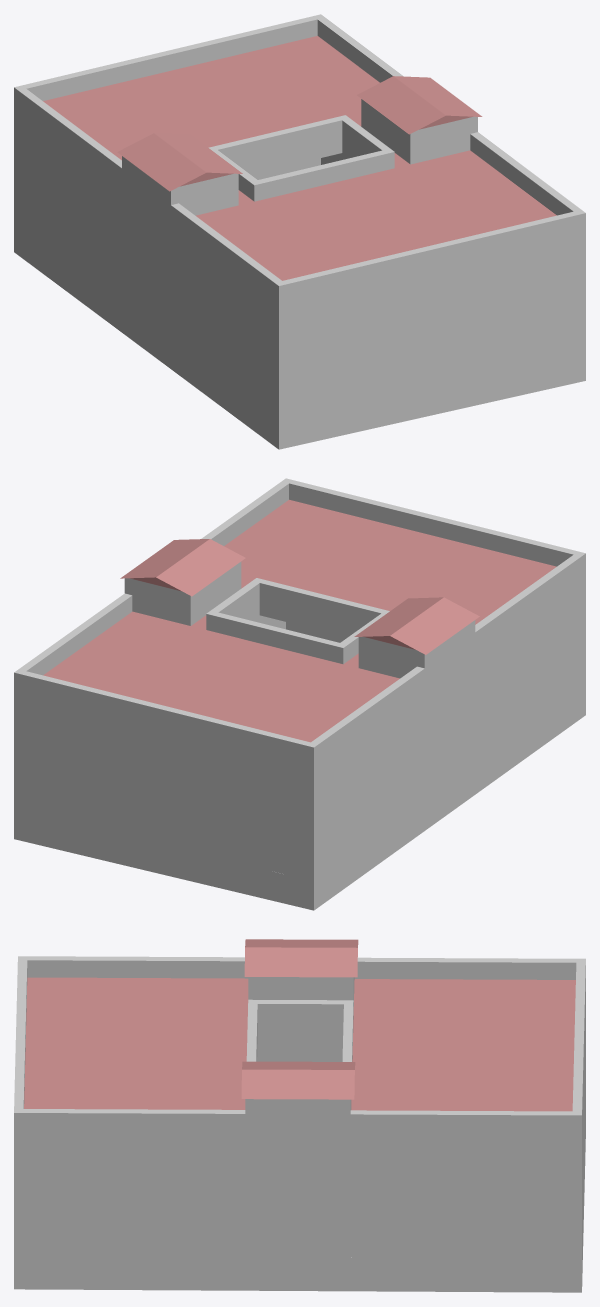
Rendered from LOD_Block_2_22.glb.
3 views of the same model, one above another, from view 1: azimuth 30°, elevation 25°; view 2: azimuth 150°, elevation 25°; view 3: azimuth 270°, elevation 25° (orthographic). The views are drawn at different scales.
Visible parts, largest first — view 1: mesh_CityEngineMaterial_307; view 2: mesh_CityEngineMaterial_307; view 3: mesh_CityEngineMaterial_307.
Boxes of the visible parts, x1,y1,x2,y2 form: mesh_CityEngineMaterial_307: (14,14,585,449); mesh_CityEngineMaterial_307: (14,478,585,910); mesh_CityEngineMaterial_307: (14,939,585,1292).
Bounding box in the file's own units: 19.94 × 11.86 × 30.08.
